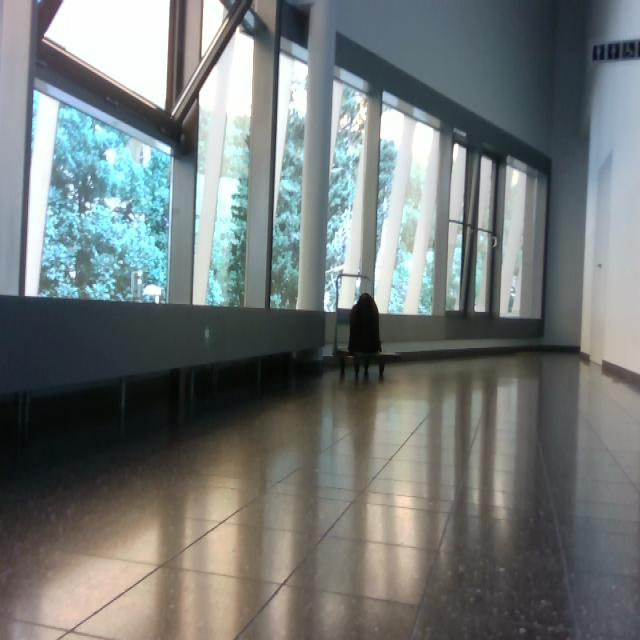door: (580, 41, 640, 376)
light bulb: (293, 87, 308, 119), (140, 144, 152, 168), (105, 148, 117, 166), (511, 169, 520, 188)
pillar: (296, 1, 337, 312)
tiled floor: (2, 349, 639, 638)
window: (23, 82, 174, 304)
